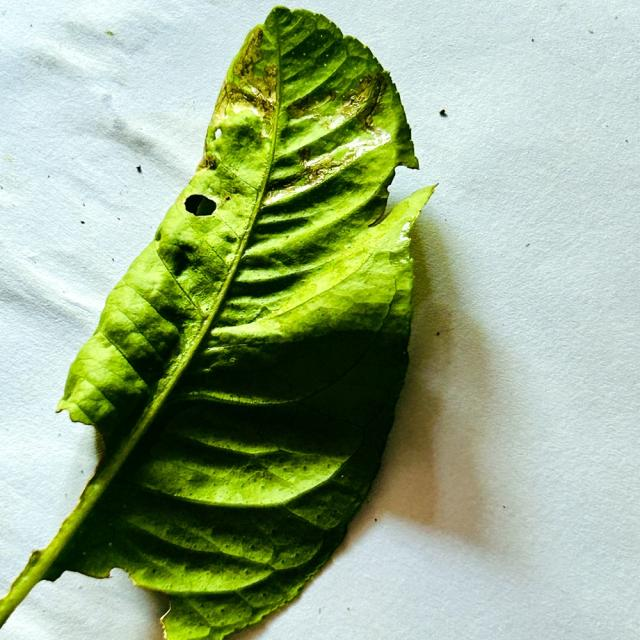Deficiency Leaf: (0, 412, 102, 560), (0, 569, 168, 639), (385, 166, 428, 215), (184, 194, 217, 216)
Lemon: (0, 8, 435, 639)
